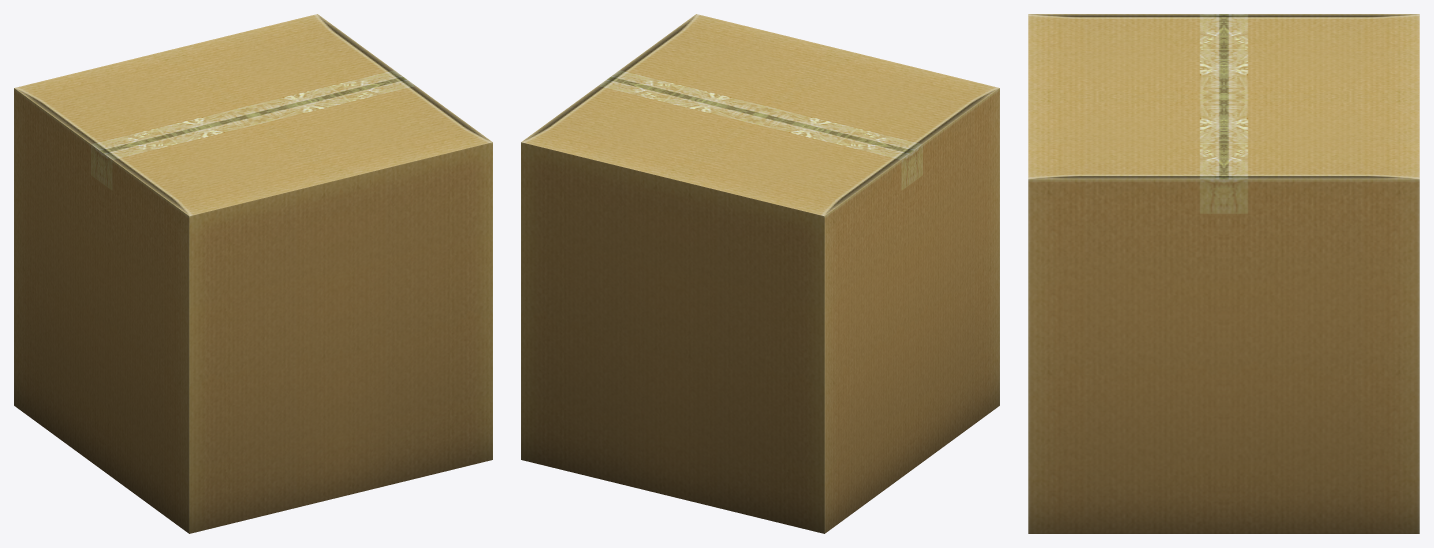
File: cardboard_box.glb
3 views of the same model, side by side, from view 1: azimuth 30°, elevation 25°; view 2: azimuth 150°, elevation 25°; view 3: azimuth 270°, elevation 25° (orthographic). The views are drawn at different scales.
Parts seen in each view (by area): view 1: Conveyor_Box; view 2: Conveyor_Box; view 3: Conveyor_Box.
Boxes of the visible parts, left/top/right/bottom form: Conveyor_Box: left=14, top=14, right=492, bottom=533; Conveyor_Box: left=521, top=14, right=999, bottom=533; Conveyor_Box: left=1028, top=14, right=1419, bottom=533.
Bounding box in the file's own units: 0.397 × 0.397 × 0.397.
Materials: 1 (1 with a texture image).
